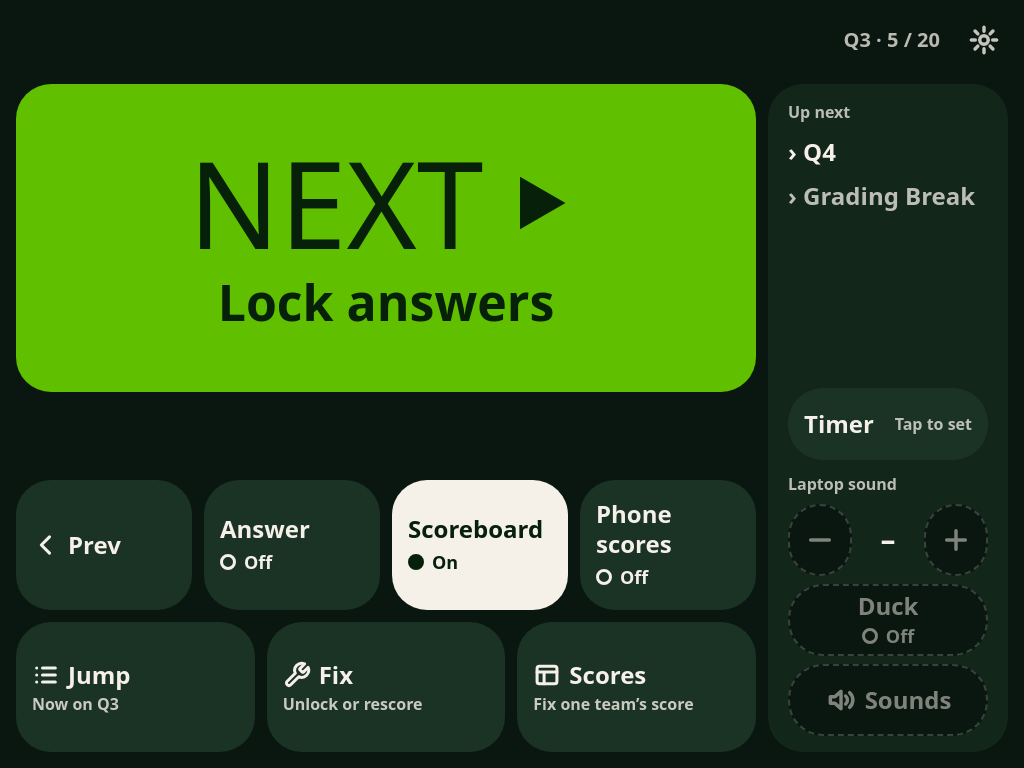
it: /remote Jump and Fix drawers › lists every slide grouped by round, with the current slide marked
Click the button "Jump Now on Q3": [135, 687] box [16,622,255,752]
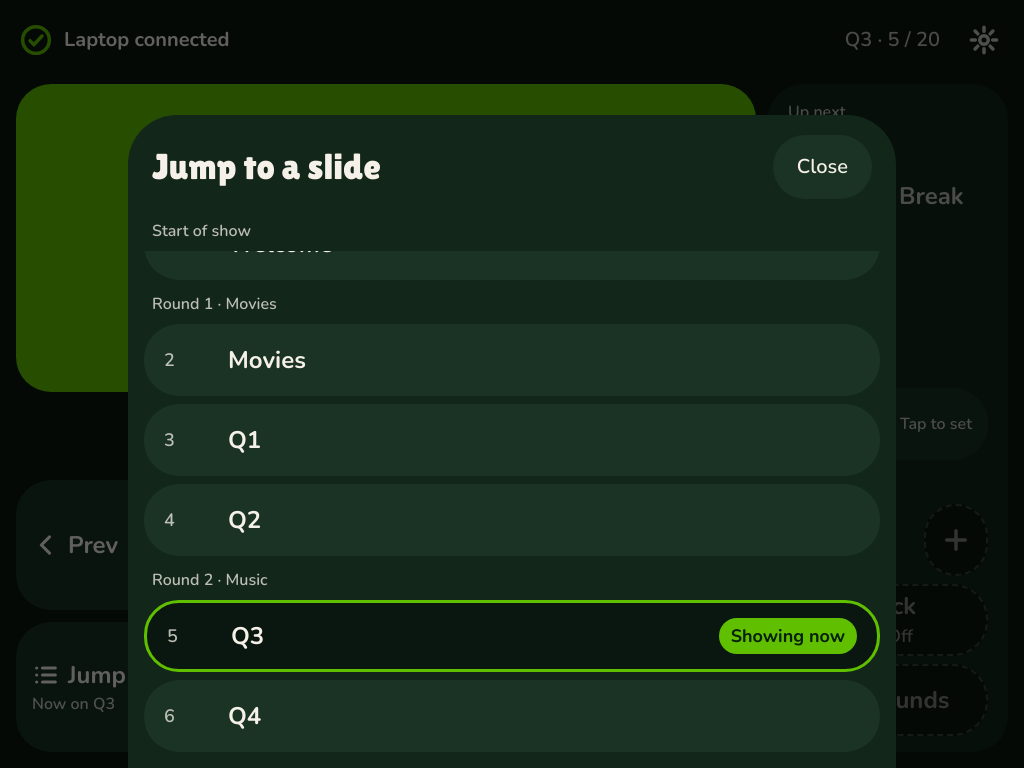
Expected: the dialog is shown
Expected: the button "5 Q3 Showing now" is disabled, [144,600,880,672]
Expected: the button "5 Q3 Showing now" is shown, [144,600,880,672]
